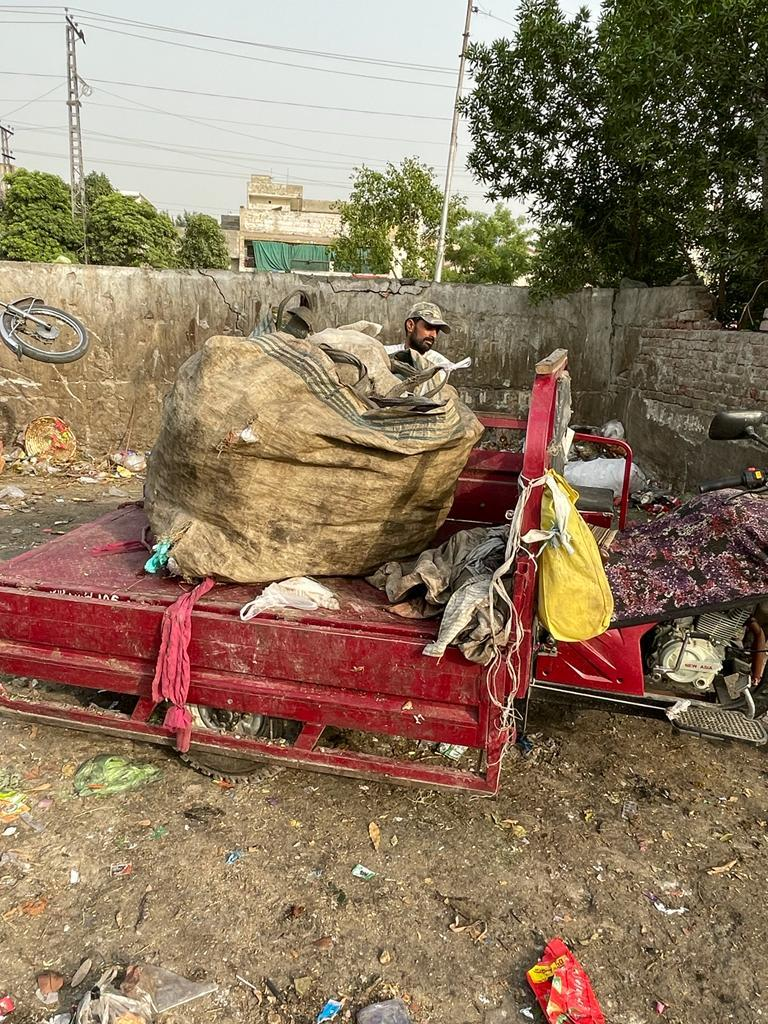garbage: (114, 299, 502, 656)
